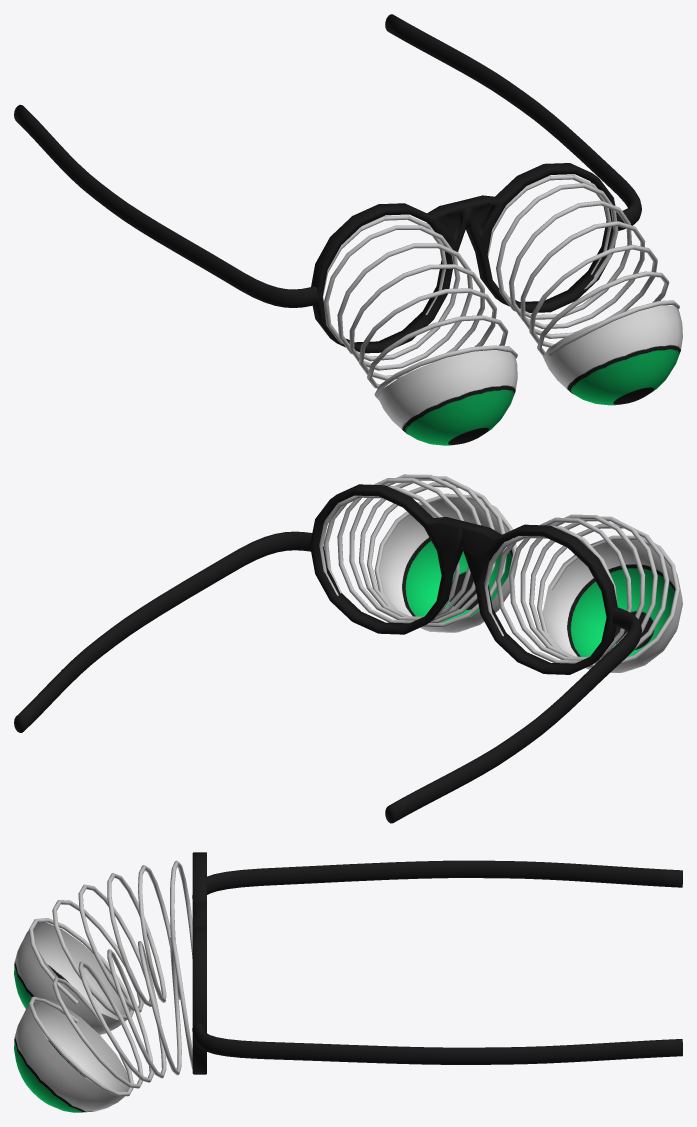
File: funny2_eye_glasses.glb
3 views of the same model, one above another, from view 1: azimuth 30°, elevation 25°; view 2: azimuth 150°, elevation 25°; view 3: azimuth 270°, elevation 25° (orthographic). The views are drawn at different scales.
Visible parts, largest first — view 1: Object_2; view 2: Object_2; view 3: Object_2.
Part boxes in pixels (bbox=[...]): Object_2: bbox=[14, 14, 682, 445]; Object_2: bbox=[14, 474, 682, 823]; Object_2: bbox=[14, 852, 682, 1112].
Bounding box in the file's own units: 1.02 × 0.4295 × 1.51.
Materials: 1 (1 with a texture image).
